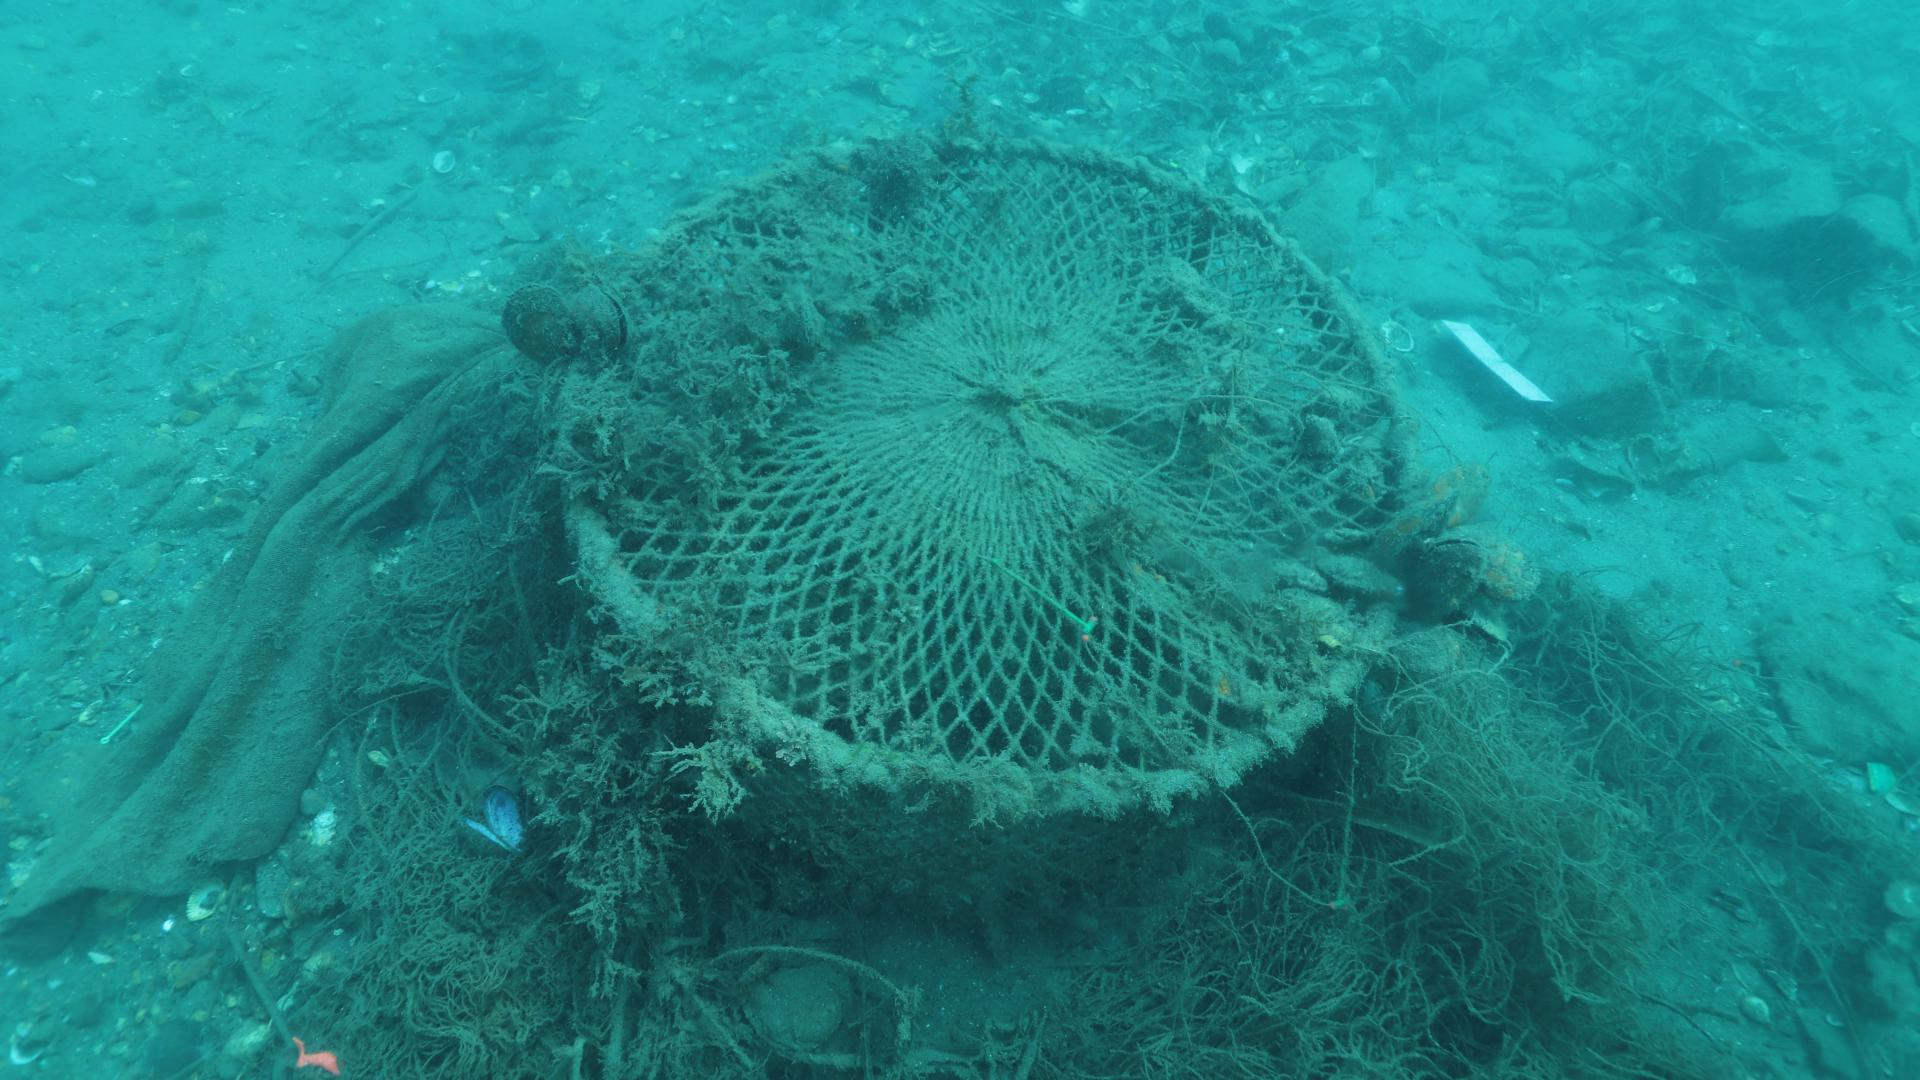circular fish trap: (549, 128, 1444, 940)
